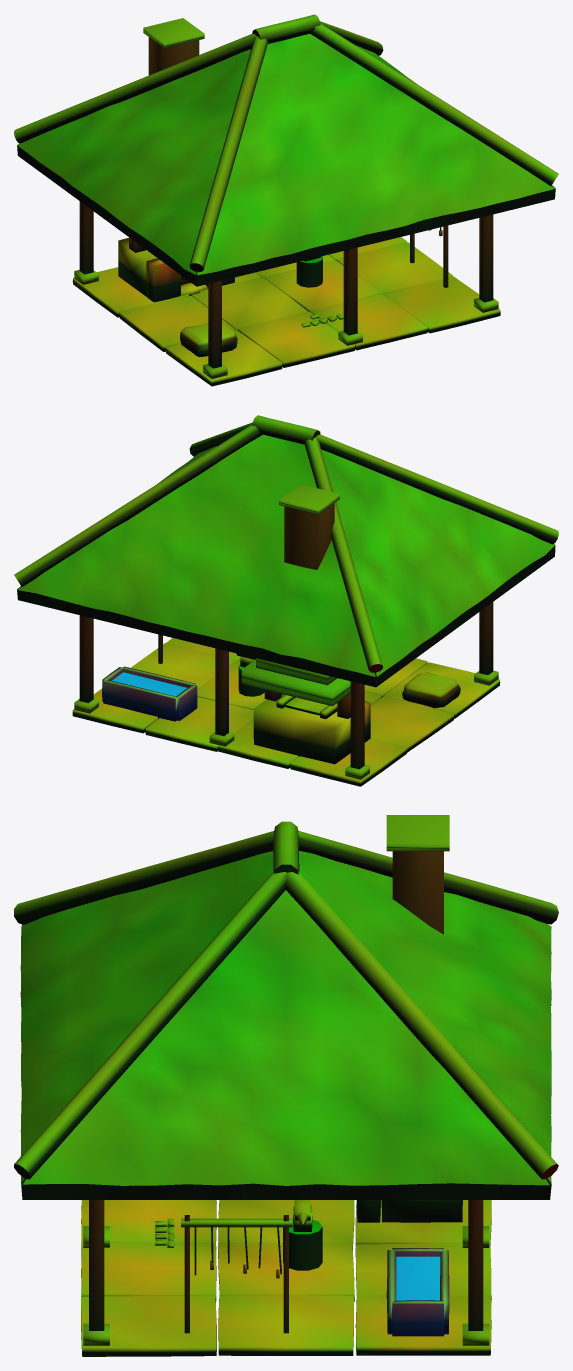
File: smithy.glb
The picture shows the model from 3 angles, top to bottom: view 1: azimuth 30°, elevation 25°; view 2: azimuth 150°, elevation 25°; view 3: azimuth 270°, elevation 25°; orthographic projection. The views are drawn at different scales.
Parts seen in each view (by area): view 1: smithy; view 2: smithy; view 3: smithy.
Part boxes in pixels (box(x1,y1,x2,y2)): smithy: box(14, 14, 558, 386); smithy: box(14, 415, 558, 786); smithy: box(14, 815, 558, 1356).
Size of what is drawn, in the model's own units: 7.61 by 5.49 by 6.61.
